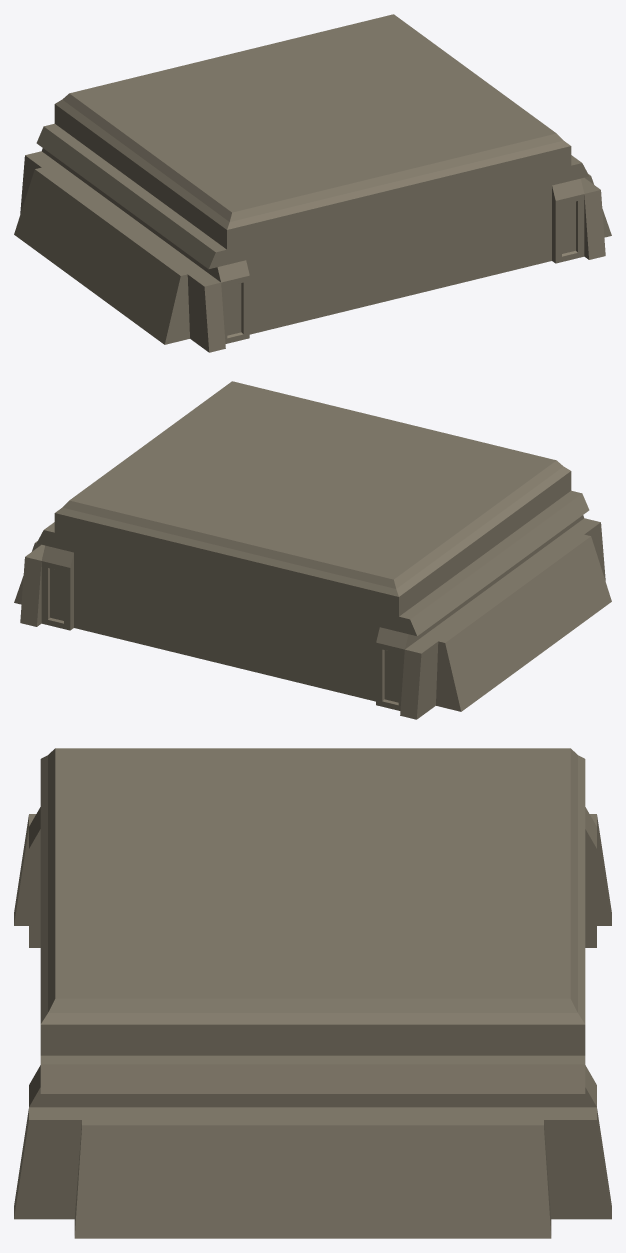
The model's file is TempleWall_A.fbx.
3 renders of one model, top to bottom at view 1: azimuth 30°, elevation 25°; view 2: azimuth 150°, elevation 25°; view 3: azimuth 270°, elevation 25°, orthographic. The views are drawn at different scales.
Visible parts, largest first — view 1: TempleWall_A; view 2: TempleWall_A; view 3: TempleWall_A.
Part boxes in pixels (x1,y1,x2,y2): TempleWall_A: (14, 14, 611, 352); TempleWall_A: (14, 381, 611, 719); TempleWall_A: (14, 748, 611, 1238).
Size of the model in its own units: 4164 by 1084 by 3048.
